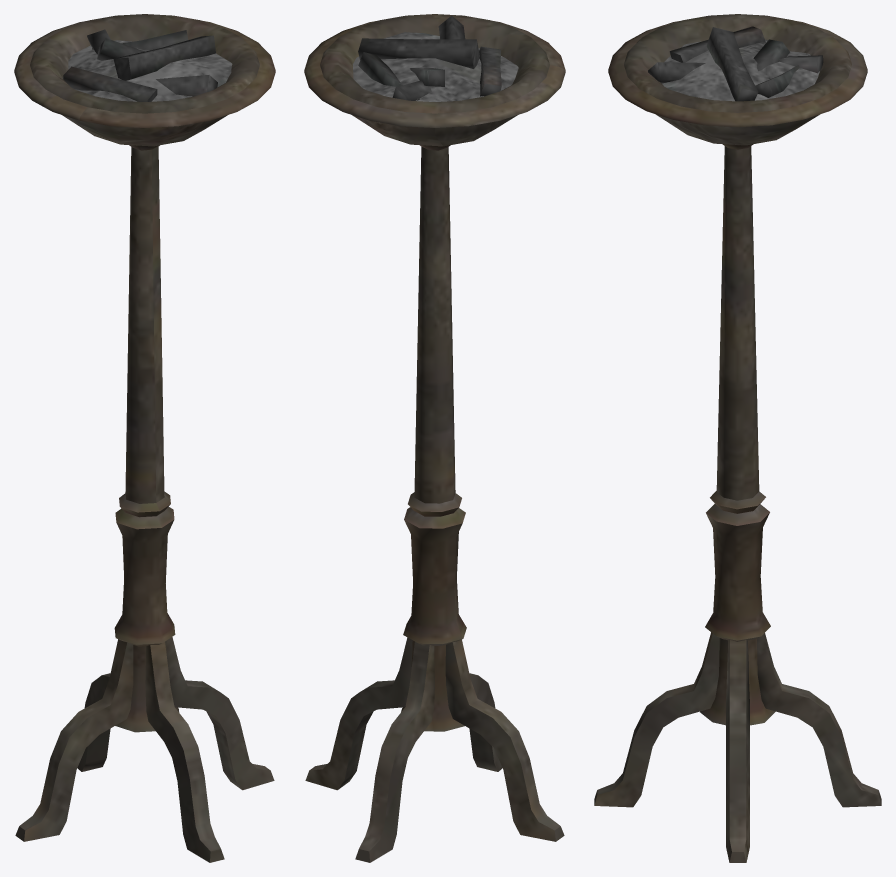
Rendered from GEN_PRO_Brasero_Medium_Metal_03A_LOD0-transformed.glb.
3 views of the same model, side by side, from view 1: azimuth 30°, elevation 25°; view 2: azimuth 150°, elevation 25°; view 3: azimuth 270°, elevation 25° (orthographic).
Parts seen in each view (by area): view 1: default; view 2: default; view 3: default.
Part boxes in pixels (left/top/right/bottom): default: left=14, top=14, right=275, bottom=862; default: left=304, top=14, right=565, bottom=862; default: left=594, top=14, right=881, bottom=862.
Size of the model in its own units: 0.4019 by 1.18 by 0.4019.
Materials: 2 (2 with a texture image).
